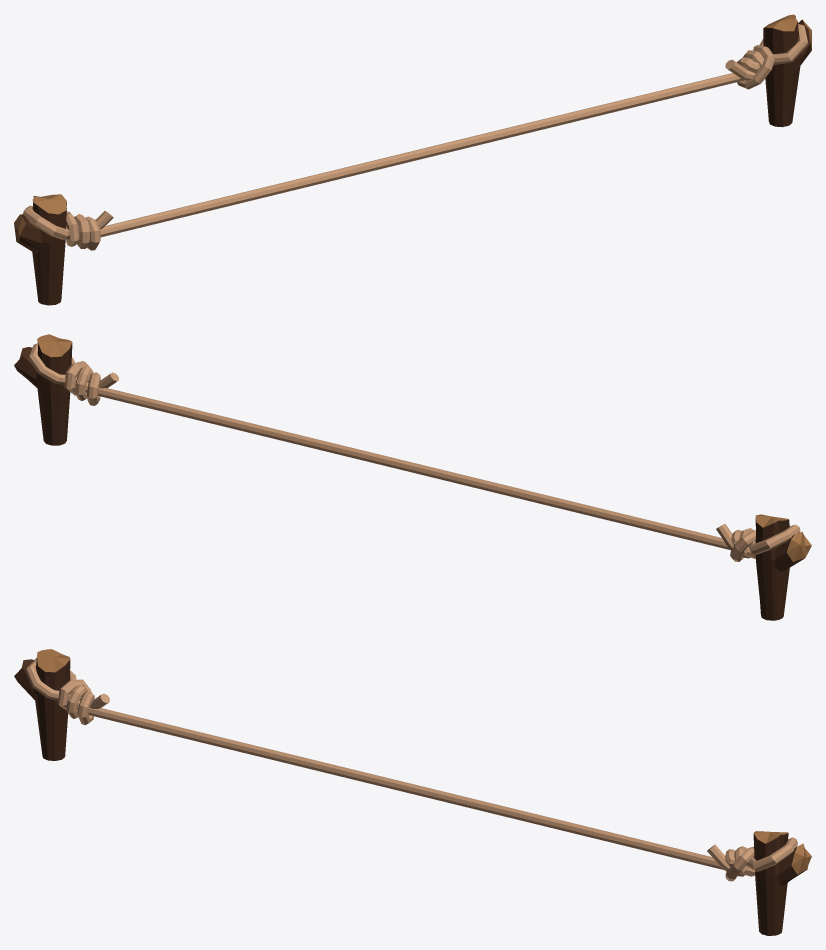
Rendered from TripeWireRopeShort.fbx.
The picture shows the model from 3 angles, top to bottom: view 1: azimuth 30°, elevation 25°; view 2: azimuth 150°, elevation 25°; view 3: azimuth 330°, elevation 25°; orthographic projection.
Parts seen in each view (by area): view 1: TripeWireRopeShort; view 2: TripeWireRopeShort; view 3: TripeWireRopeShort.
Part boxes in pixels (box(x1,y1,x2,y2)): TripeWireRopeShort: box(14, 14, 811, 305); TripeWireRopeShort: box(14, 334, 811, 620); TripeWireRopeShort: box(14, 649, 811, 935).
Size of the model in its own units: 240 by 29.52 by 14.4.
